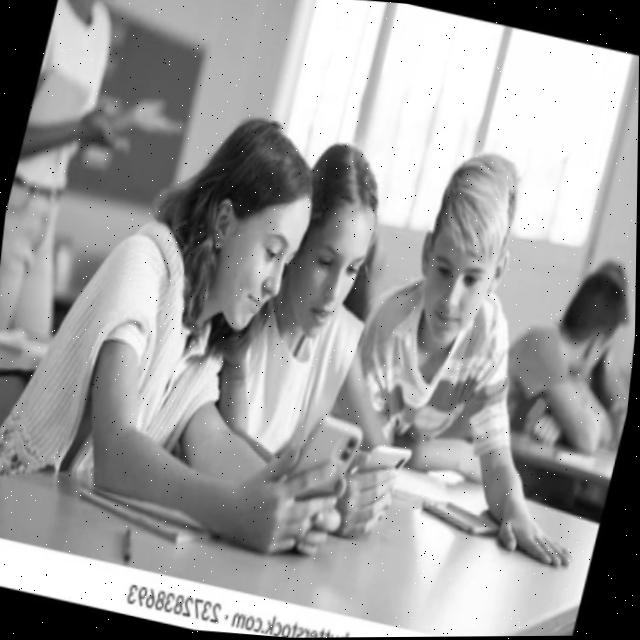phone: (282, 408, 369, 513), (418, 494, 507, 540), (352, 436, 416, 488)
